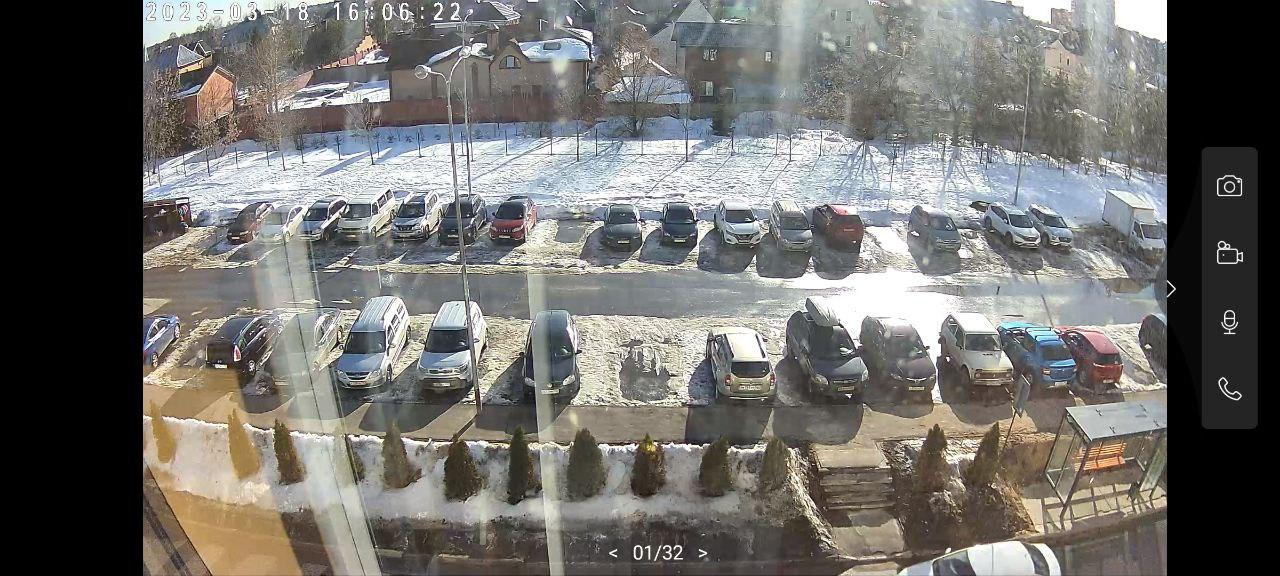empty: (784, 305, 873, 404), (934, 308, 1017, 400), (856, 310, 937, 402), (336, 303, 413, 397), (416, 305, 484, 409), (516, 308, 581, 409), (704, 326, 788, 404), (204, 304, 281, 389), (270, 308, 338, 401), (1000, 313, 1075, 392), (910, 538, 1065, 574), (1103, 189, 1165, 275), (1054, 316, 1125, 390), (981, 197, 1042, 256), (382, 194, 453, 243), (908, 198, 962, 257), (485, 192, 536, 252), (432, 190, 483, 249), (202, 197, 276, 236), (655, 192, 701, 254), (600, 194, 648, 253), (714, 200, 765, 255), (331, 195, 397, 237), (814, 206, 865, 259), (254, 198, 320, 238), (292, 196, 353, 239), (770, 204, 829, 247), (143, 310, 181, 375), (1031, 207, 1071, 253)
occupied: (607, 313, 681, 408), (1103, 324, 1158, 389), (166, 312, 216, 382), (950, 211, 999, 265), (860, 204, 903, 260), (1075, 204, 1112, 266), (548, 205, 586, 263), (192, 205, 231, 255)
